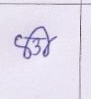i_matra: (36, 26, 53, 56)
